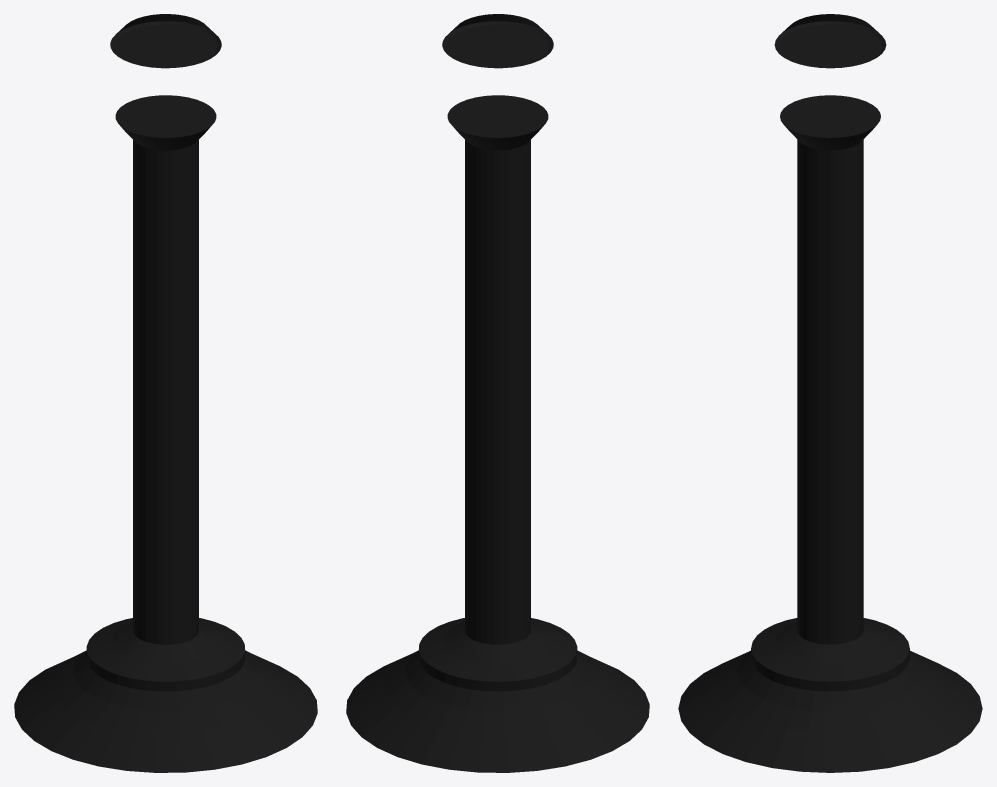
File: lamp.glb
3 views of the same model, side by side, from view 1: azimuth 30°, elevation 25°; view 2: azimuth 150°, elevation 25°; view 3: azimuth 270°, elevation 25° (orthographic).
Visible parts, largest first — view 1: Circle; view 2: Circle; view 3: Circle.
Part boxes in pixels (x1,y1,x2,y2): Circle: (14, 14, 317, 772); Circle: (346, 14, 649, 772); Circle: (678, 14, 982, 772).
Bounding box in the file's own units: 3.01 × 7.5 × 3.01.
Materials: 1 (1 with a texture image).
